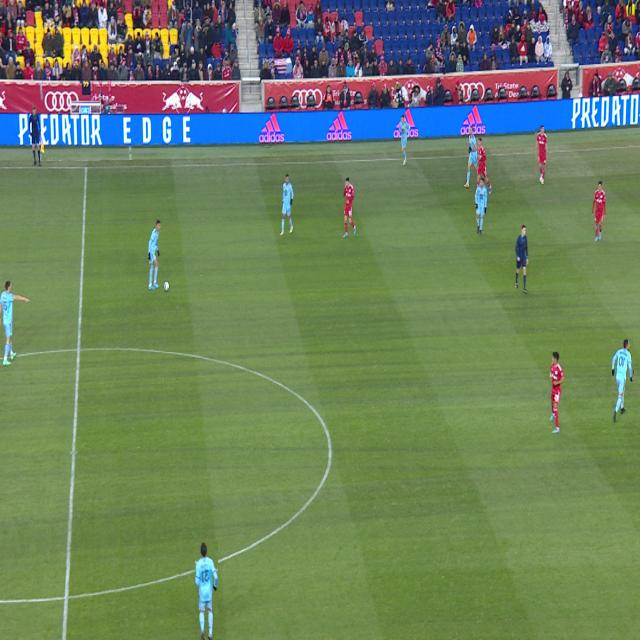football: (164, 281, 169, 292)
player: (0, 281, 30, 365), (195, 542, 218, 640), (612, 339, 633, 423), (550, 352, 564, 433), (148, 220, 161, 291), (464, 126, 478, 188), (280, 174, 294, 235), (592, 181, 606, 241), (477, 138, 491, 195), (343, 178, 356, 237), (536, 126, 549, 183), (475, 178, 487, 236), (399, 114, 410, 165)
referee: (515, 225, 529, 294)
